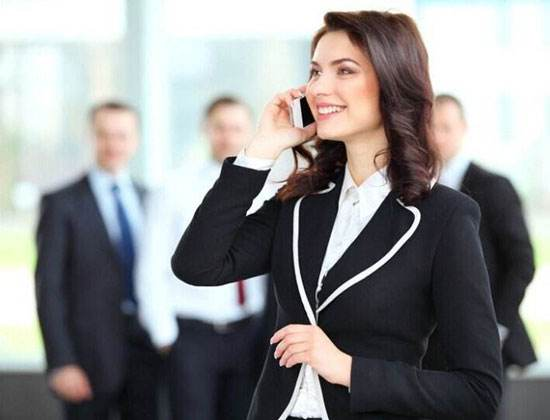calling: (255, 82, 323, 152)
